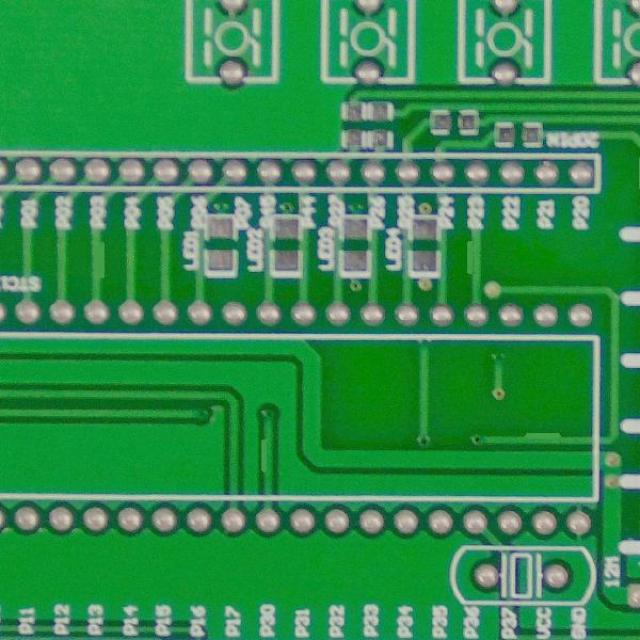Spur: (85, 234, 112, 284), (460, 233, 486, 280), (518, 428, 566, 448), (256, 433, 277, 478)
